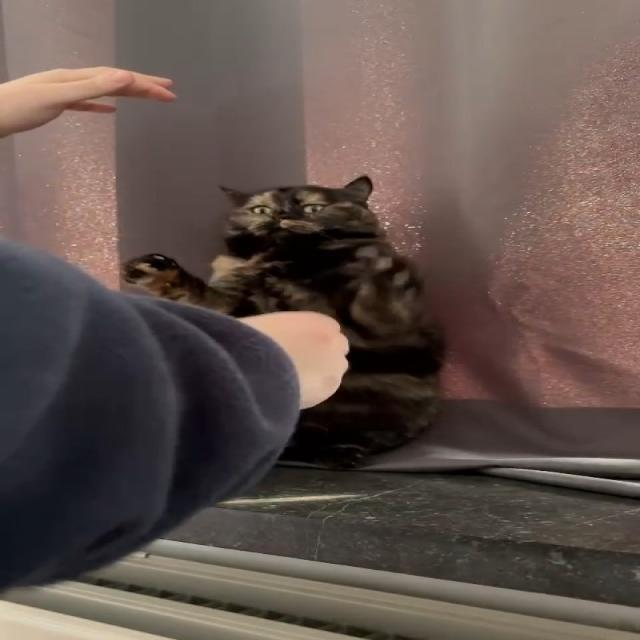authorized: (121, 175, 447, 470)
